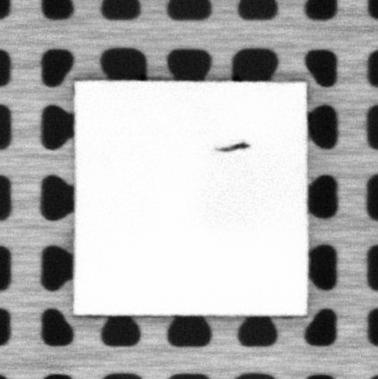DIE_INK: (212, 138, 250, 154)
